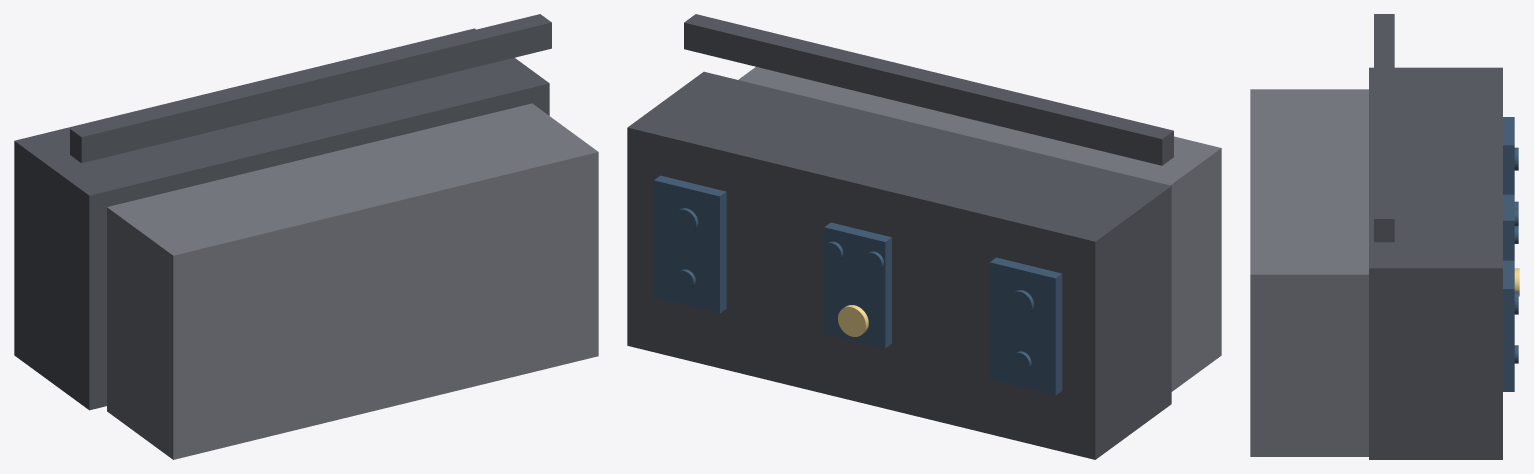
File: quest3.glb
3 renders of one model, left to right at view 1: azimuth 30°, elevation 25°; view 2: azimuth 150°, elevation 25°; view 3: azimuth 270°, elevation 25°, orthographic. The views are drawn at different scales.
Parts seen in each view (by area): view 1: facial-interface, visor-shell, head-strap; view 2: visor-shell, facial-interface, head-strap, camera-pill-left, camera-pill-right, camera-pill-centre, depth-projector; view 3: visor-shell, facial-interface, head-strap, camera-pill-right, camera-pill-left, camera-pill-centre.
Boxes of the visible parts, x1=… form: facial-interface: x1=107, y1=103, x2=598, y2=459; visor-shell: x1=14, y1=28, x2=549, y2=410; head-strap: x1=70, y1=14, x2=551, y2=163; visor-shell: x1=627, y1=71, x2=1171, y2=459; facial-interface: x1=738, y1=67, x2=1221, y2=391; head-strap: x1=684, y1=14, x2=1173, y2=165; camera-pill-left: x1=989, y1=257, x2=1062, y2=395; camera-pill-right: x1=654, y1=175, x2=726, y2=313; camera-pill-centre: x1=824, y1=222, x2=891, y2=348; depth-projector: x1=838, y1=305, x2=868, y2=336; visor-shell: x1=1369, y1=67, x2=1502, y2=459; facial-interface: x1=1250, y1=89, x2=1368, y2=456; head-strap: x1=1374, y1=14, x2=1394, y2=242; camera-pill-right: x1=1503, y1=260, x2=1514, y2=391; camera-pill-left: x1=1503, y1=117, x2=1514, y2=194; camera-pill-centre: x1=1503, y1=194, x2=1514, y2=260.
Size of the model in its own units: 0.188 by 0.106 by 0.1045.
